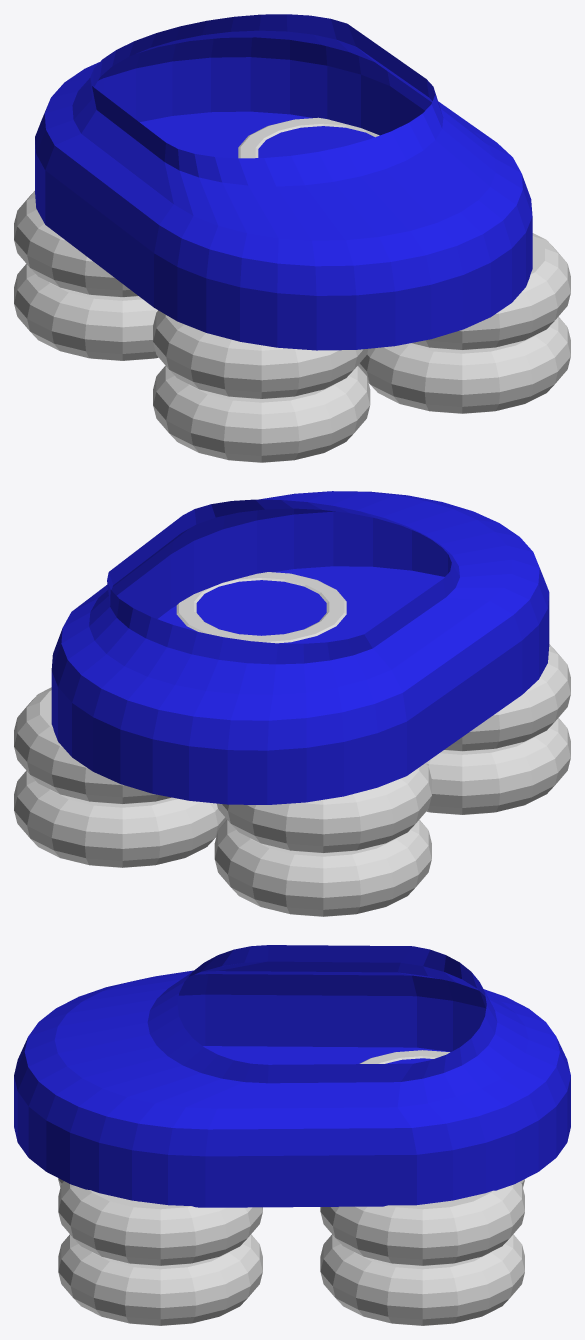
Rendered from jump_boots.fbx.
3 renders of one model, top to bottom at view 1: azimuth 30°, elevation 25°; view 2: azimuth 150°, elevation 25°; view 3: azimuth 270°, elevation 25°, orthographic. The views are drawn at different scales.
Visible parts, largest first — view 1: Cylinder.002, Torus.007, Torus.006, Torus.002, Torus.008, Torus.003, Torus.001, Torus.004; view 2: Cylinder.002, Torus.008, Torus.005, Torus.001, Torus.007, Torus.004, Torus.002, Torus.003; view 3: Cylinder.002, Torus.006, Torus.005, Torus.004, Torus.003, Torus.001.
Part boxes in pixels (x1,y1,x2,y2): Cylinder.002: [35, 14, 532, 350]; Torus.007: [153, 366, 370, 462]; Torus.006: [358, 317, 570, 413]; Torus.002: [153, 310, 368, 398]; Torus.008: [14, 264, 158, 360]; Torus.003: [411, 233, 570, 349]; Torus.001: [14, 191, 137, 297]; Torus.004: [238, 117, 379, 158]; Cylinder.002: [51, 491, 549, 804]; Torus.008: [214, 820, 431, 916]; Torus.005: [14, 771, 226, 867]; Torus.001: [217, 763, 431, 853]; Torus.007: [426, 718, 570, 814]; Torus.004: [14, 687, 171, 804]; Torus.002: [444, 644, 570, 751]; Torus.003: [176, 572, 346, 643]; Cylinder.002: [14, 945, 570, 1207]; Torus.006: [58, 1234, 262, 1325]; Torus.005: [320, 1234, 524, 1325]; Torus.004: [320, 1181, 524, 1265]; Torus.003: [58, 1181, 262, 1265]; Torus.001: [359, 1050, 449, 1063].
Bounding box in the file's own units: 223 × 137 × 291.
